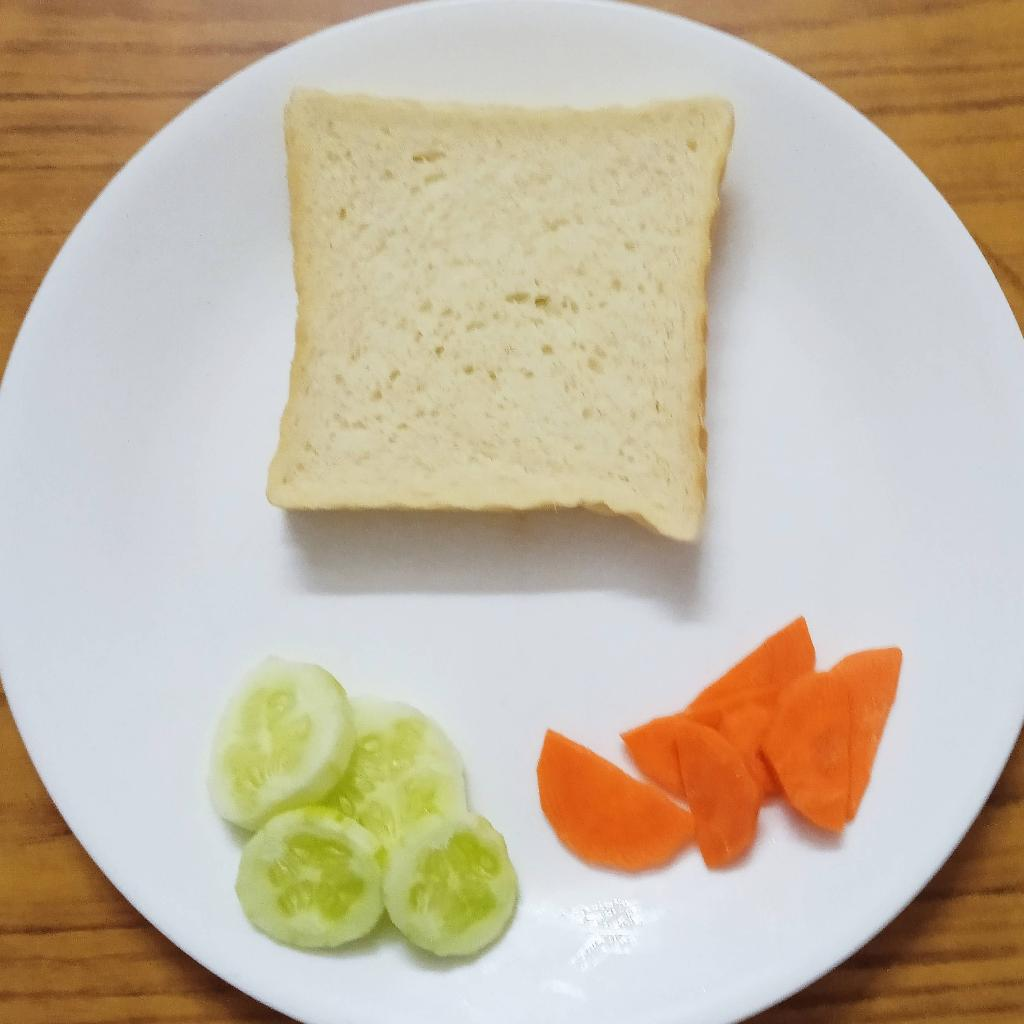bread: (264, 89, 733, 546)
carrot: (540, 615, 900, 871)
cucumber: (197, 653, 518, 965)
